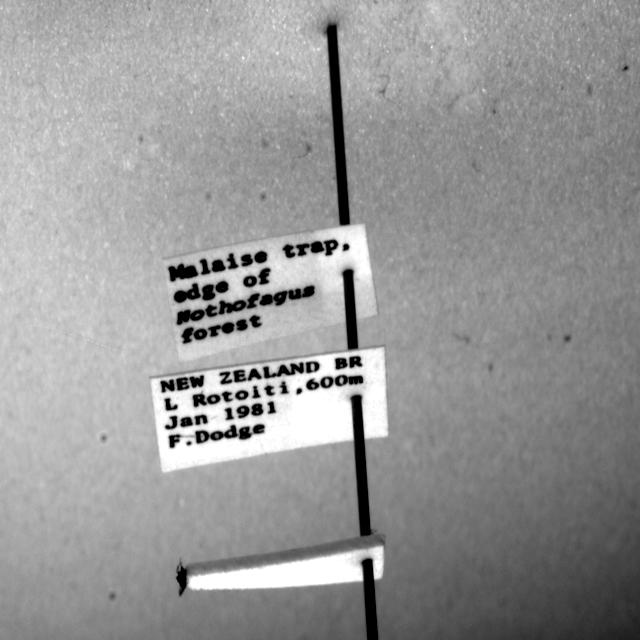typed_label: (150, 347, 389, 472), (164, 225, 378, 362)
